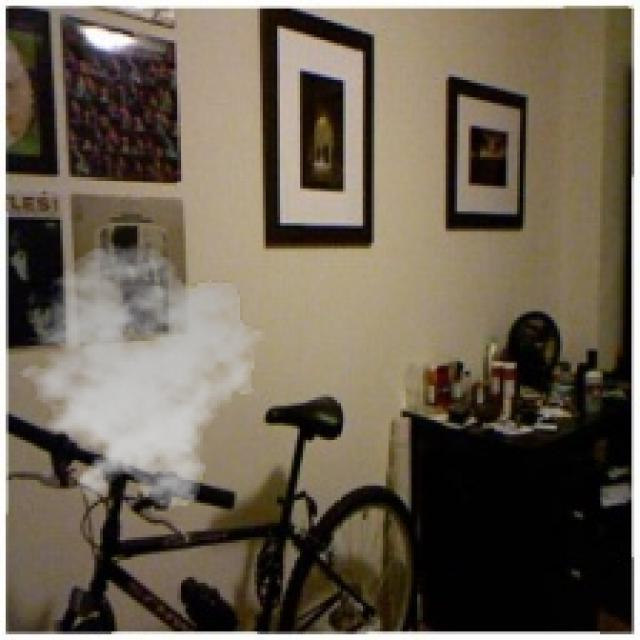smoke: (6, 243, 271, 511)
